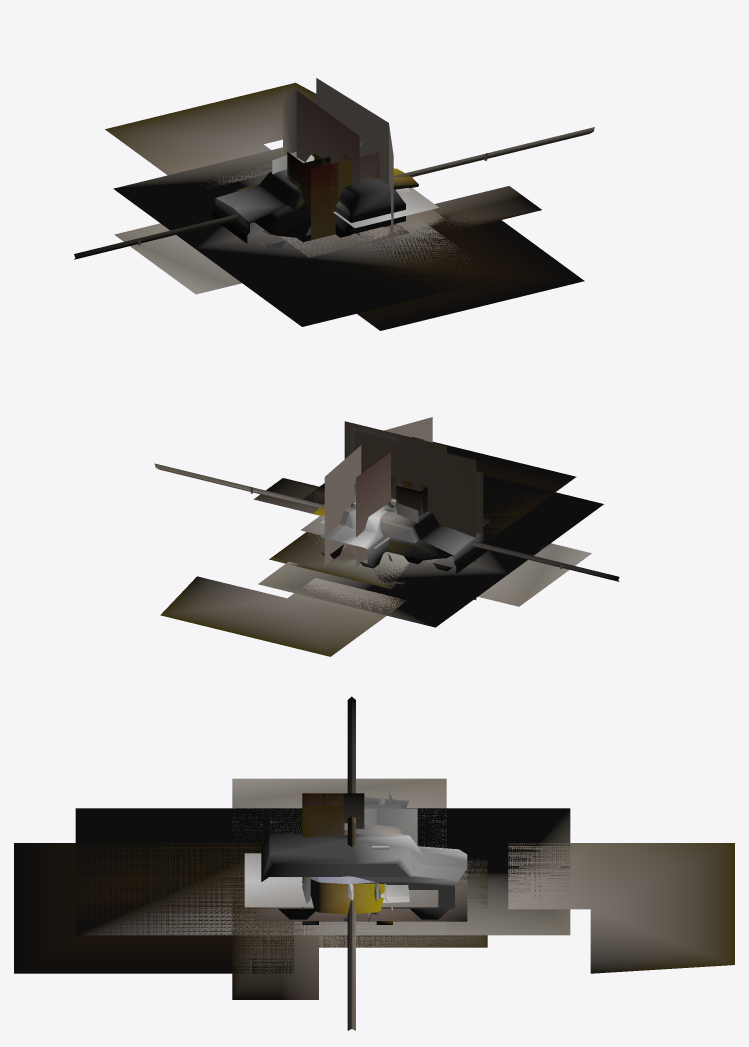
File: backstage_parking_lot.glb
3 views of the same model, one above another, from view 1: azimuth 30°, elevation 25°; view 2: azimuth 150°, elevation 25°; view 3: azimuth 270°, elevation 25° (orthographic). The views are drawn at different scales.
Visible parts, largest first — view 1: 0x720_Backstage_Parking_Lot_Floor_Farthest_Right_Section_Und, 0x71f_Backstage_Parking_Lot_Floor_Section_In_Front_Of_Shutte, 0x722_Backstage_Parking_Lot_Floor_Farthest_Back_Section_Unde, 0x729_Backstage_Parking_Lot_Wall_Right_Of_Pillar_Behind_Mesh, 0x719_Backstage_Parking_Lot_Exit_Door_2_Can_t_Be_Seen_closed, 0x708_Backstage_Parking_Lot_Blue_Car_Tires, 0x73b_Backstage_Parking_Lot_Pipe_On_Ceiling_Left_Angled_Sect, 0x702_Backstage_Parking_Lot, 0x732_Backstage_Parking_Lot_Pillar_Right_Of_Orange_Car_Botto, 0x71e_Backstage_Parking_Lot_Floor_Section_In_Front_Of_Exit_D, 0x71d_Backstage_Parking_Lot_Exit_Sign_Above_Door, 0x742_Backstage_Parking_Lot_Truck_Chassis (+3 smaller); view 2: 0x720_Backstage_Parking_Lot_Floor_Farthest_Right_Section_Und, 0x71f_Backstage_Parking_Lot_Floor_Section_In_Front_Of_Shutte, 0x728_Backstage_Parking_Lot, 0x722_Backstage_Parking_Lot_Floor_Farthest_Back_Section_Unde, 0x729_Backstage_Parking_Lot_Wall_Right_Of_Pillar_Behind_Mesh, 0x708_Backstage_Parking_Lot_Blue_Car_Tires, 0x719_Backstage_Parking_Lot_Exit_Door_2_Can_t_Be_Seen_closed, 0x71d_Backstage_Parking_Lot_Exit_Sign_Above_Door, 0x73b_Backstage_Parking_Lot_Pipe_On_Ceiling_Left_Angled_Sect, 0x721_Backstage_Parking_Lot_Floor_Nearest_Left_Section, 0x702_Backstage_Parking_Lot, 0x726_Backstage_Parking_Lot_Light_Above_Exit_Door (+4 smaller); view 3: 0x720_Backstage_Parking_Lot_Floor_Farthest_Right_Section_Und, 0x71f_Backstage_Parking_Lot_Floor_Section_In_Front_Of_Shutte, 0x722_Backstage_Parking_Lot_Floor_Farthest_Back_Section_Unde, 0x702_Backstage_Parking_Lot, 0x742_Backstage_Parking_Lot_Truck_Chassis, 0x703_Backstage_Parking_Lot_Orange_Car_Windscreen_Roof, 0x71d_Backstage_Parking_Lot_Exit_Sign_Above_Door, 0x71e_Backstage_Parking_Lot_Floor_Section_In_Front_Of_Exit_D, 0x73b_Backstage_Parking_Lot_Pipe_On_Ceiling_Left_Angled_Sect, 0x70a_Backstage_Parking_Lot_Blue_Car_Side_Windows, 0x721_Backstage_Parking_Lot_Floor_Nearest_Left_Section, 0x700_Backstage_Parking_Lot_Orange_Car_Front (+5 smaller).
Boxes of the visible parts, bbox=[...] form: 0x720_Backstage_Parking_Lot_Floor_Farthest_Right_Section_Und: bbox=[105, 82, 584, 330]; 0x71f_Backstage_Parking_Lot_Floor_Section_In_Front_Of_Shutte: bbox=[113, 147, 498, 326]; 0x722_Backstage_Parking_Lot_Floor_Farthest_Back_Section_Unde: bbox=[114, 186, 541, 294]; 0x729_Backstage_Parking_Lot_Wall_Right_Of_Pillar_Behind_Mesh: bbox=[316, 78, 393, 254]; 0x719_Backstage_Parking_Lot_Exit_Door_2_Can_t_Be_Seen_closed: bbox=[296, 90, 359, 235]; 0x708_Backstage_Parking_Lot_Blue_Car_Tires: bbox=[212, 169, 299, 243]; 0x73b_Backstage_Parking_Lot_Pipe_On_Ceiling_Left_Angled_Sect: bbox=[74, 127, 594, 259]; 0x702_Backstage_Parking_Lot: bbox=[296, 155, 405, 234]; 0x732_Backstage_Parking_Lot_Pillar_Right_Of_Orange_Car_Botto: bbox=[311, 162, 338, 240]; 0x71e_Backstage_Parking_Lot_Floor_Section_In_Front_Of_Exit_D: bbox=[280, 223, 409, 257]; 0x71d_Backstage_Parking_Lot_Exit_Sign_Above_Door: bbox=[234, 184, 445, 244]; 0x742_Backstage_Parking_Lot_Truck_Chassis: bbox=[333, 188, 438, 228]; 0x720_Backstage_Parking_Lot_Floor_Farthest_Right_Section_Und: bbox=[160, 442, 576, 656]; 0x71f_Backstage_Parking_Lot_Floor_Section_In_Front_Of_Shutte: bbox=[258, 474, 603, 627]; 0x728_Backstage_Parking_Lot: bbox=[354, 430, 476, 599]; 0x722_Backstage_Parking_Lot_Floor_Farthest_Back_Section_Unde: bbox=[253, 478, 591, 606]; 0x729_Backstage_Parking_Lot_Wall_Right_Of_Pillar_Behind_Mesh: bbox=[324, 417, 432, 565]; 0x708_Backstage_Parking_Lot_Blue_Car_Tires: bbox=[319, 506, 487, 573]; 0x719_Backstage_Parking_Lot_Exit_Door_2_Can_t_Be_Seen_closed: bbox=[356, 437, 412, 566]; 0x71d_Backstage_Parking_Lot_Exit_Sign_Above_Door: bbox=[269, 532, 437, 588]; 0x73b_Backstage_Parking_Lot_Pipe_On_Ceiling_Left_Angled_Sect: bbox=[154, 463, 619, 581]; 0x721_Backstage_Parking_Lot_Floor_Nearest_Left_Section: bbox=[272, 516, 493, 568]; 0x702_Backstage_Parking_Lot: bbox=[320, 501, 394, 547]; 0x726_Backstage_Parking_Lot_Light_Above_Exit_Door: bbox=[344, 421, 446, 458]; 0x720_Backstage_Parking_Lot_Floor_Farthest_Right_Section_Und: bbox=[14, 843, 734, 973]; 0x71f_Backstage_Parking_Lot_Floor_Section_In_Front_Of_Shutte: bbox=[75, 808, 570, 935]; 0x722_Backstage_Parking_Lot_Floor_Farthest_Back_Section_Unde: bbox=[232, 778, 446, 999]; 0x702_Backstage_Parking_Lot: bbox=[261, 832, 467, 880]; 0x742_Backstage_Parking_Lot_Truck_Chassis: bbox=[244, 853, 438, 907]; 0x703_Backstage_Parking_Lot_Orange_Car_Windscreen_Roof: bbox=[261, 853, 413, 881]; 0x71d_Backstage_Parking_Lot_Exit_Sign_Above_Door: bbox=[319, 860, 487, 947]; 0x71e_Backstage_Parking_Lot_Floor_Section_In_Front_Of_Exit_D: bbox=[257, 869, 467, 921]; 0x73b_Backstage_Parking_Lot_Pipe_On_Ceiling_Left_Angled_Sect: bbox=[347, 696, 355, 1030]; 0x70a_Backstage_Parking_Lot_Blue_Car_Side_Windows: bbox=[310, 879, 384, 914]; 0x721_Backstage_Parking_Lot_Floor_Nearest_Left_Section: bbox=[199, 859, 479, 947]; 0x700_Backstage_Parking_Lot_Orange_Car_Front: bbox=[335, 846, 458, 908].
Size of the model in its own units: 13.65 by 4.41 by 12.25.
